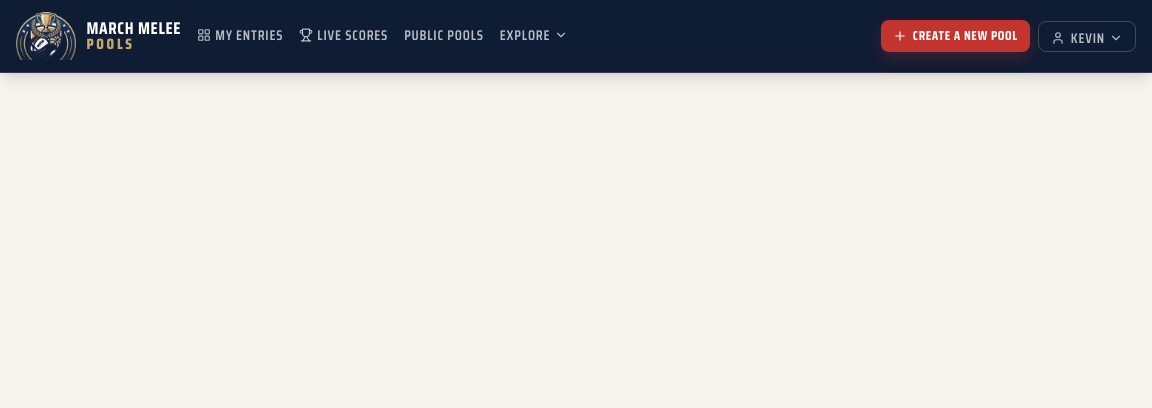
Scenario: menu ACTIONS fire even though the menu closes on the same click › desktop account menu: Log Out signs the member out, and the menu closes
Click the button with aria-label "Account menu".
click(1087, 36)  # box [1038,20,1136,52]
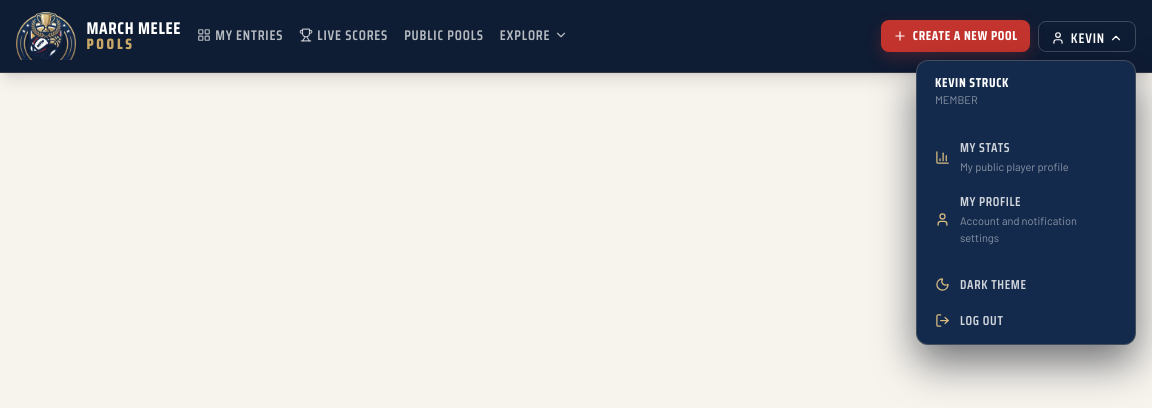
Click the button "Log Out".
click(1026, 320)  # box [923,302,1129,338]
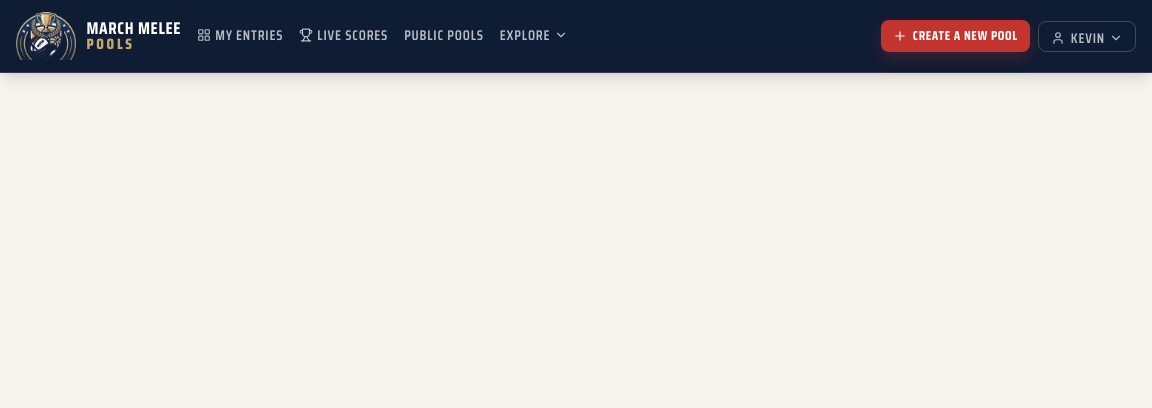
Expected: the button with aria-label "Account menu" is collapsed, [1038,20,1136,52]
